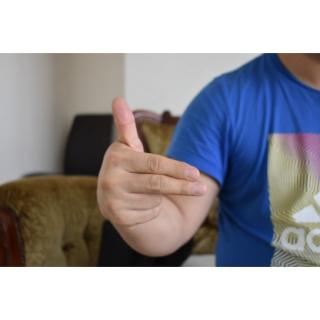GHAYN: (93, 93, 213, 230)
